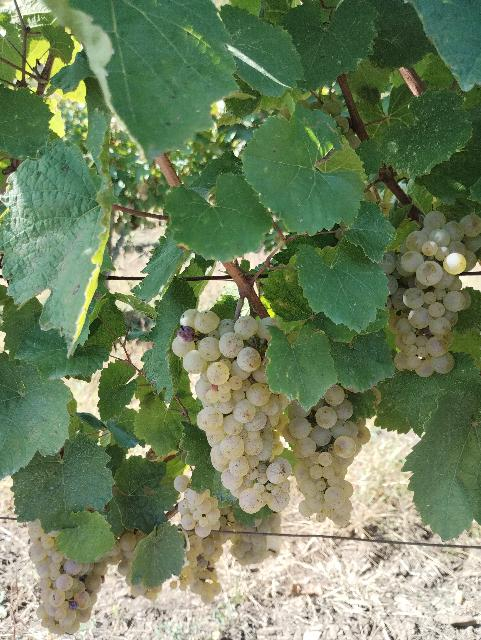grapes: (172, 309, 301, 514), (382, 211, 481, 378), (282, 384, 370, 528), (28, 520, 118, 635), (174, 475, 221, 538)
